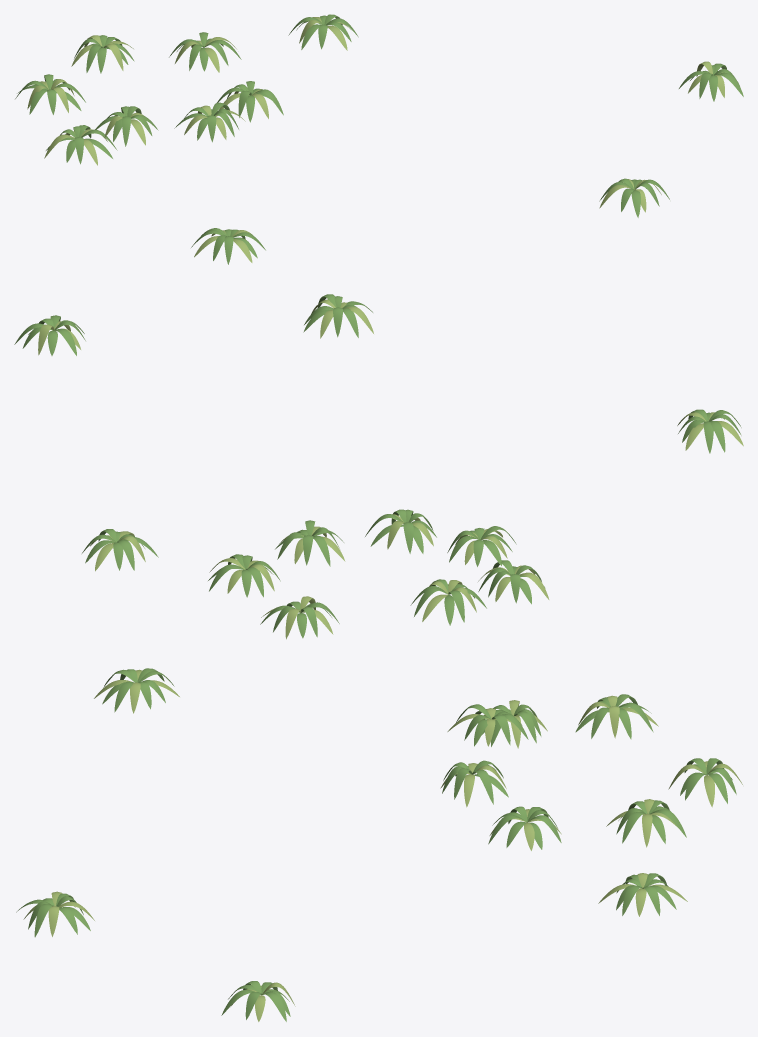
Rendered from SM_PalmFronds.fbx.
3 views of the same model, one above another, from view 1: azimuth 30°, elevation 25°; view 2: azimuth 150°, elevation 25°; view 3: azimuth 270°, elevation 25° (orthographic). The views are drawn at different scales.
Visible parts, largest first — view 1: SM_PalmFronds_Export; view 2: SM_PalmFronds_Export; view 3: SM_PalmFronds_Export.
Part boxes in pixels (<box>): SM_PalmFronds_Export: <box>15,14,743,264</box>; SM_PalmFronds_Export: <box>14,294,743,639</box>; SM_PalmFronds_Export: <box>16,668,742,1021</box>.
Size of the model in its own units: 7571 by 6963 by 572.
